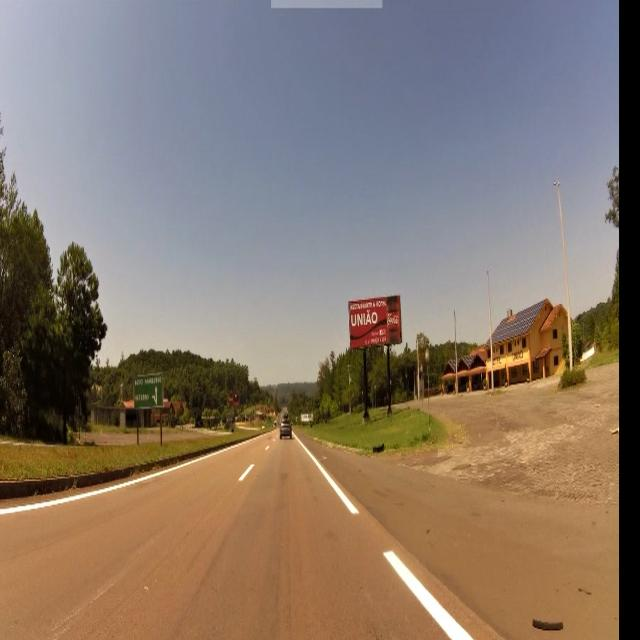I-4: (135, 375, 164, 410)
